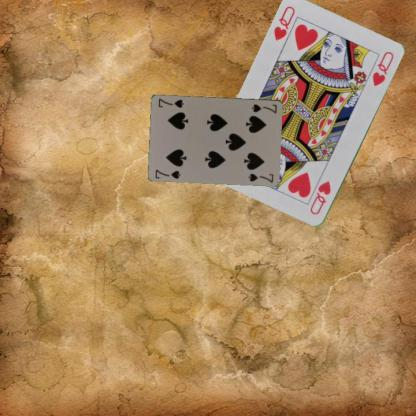7s: (249, 101, 278, 115), (153, 166, 182, 180)
Qh: (271, 3, 296, 43), (308, 178, 332, 216)
